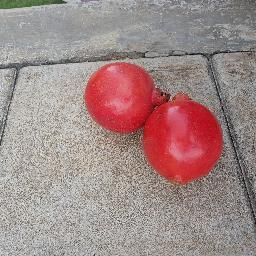Good_pomegranate: (143, 90, 225, 185), (81, 57, 166, 136)
